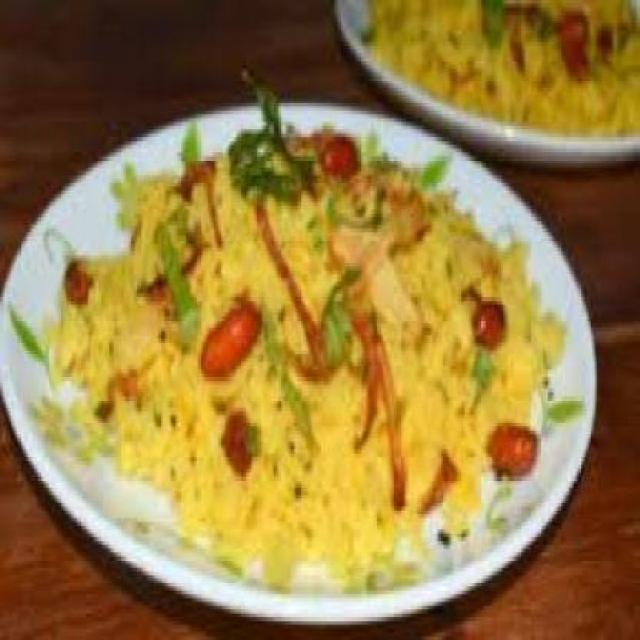poha: (38, 129, 564, 588), (363, 0, 640, 138)
